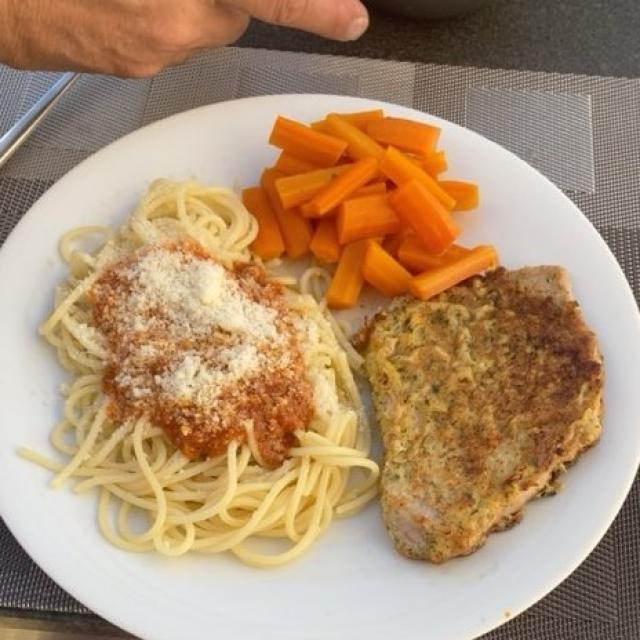carrots: (250, 116, 487, 301)
cheese: (99, 250, 308, 430)
pasta: (50, 183, 359, 560)
tomato-sauce: (92, 254, 314, 457)
